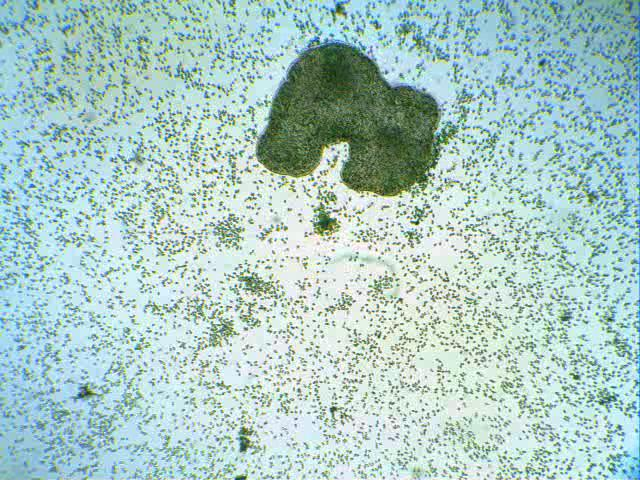Placozoan: (255, 42, 440, 197)
